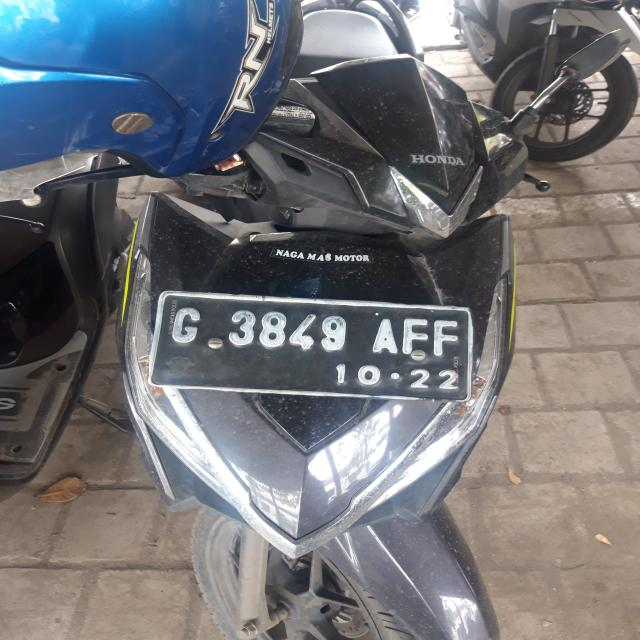plate: (146, 290, 473, 405)
